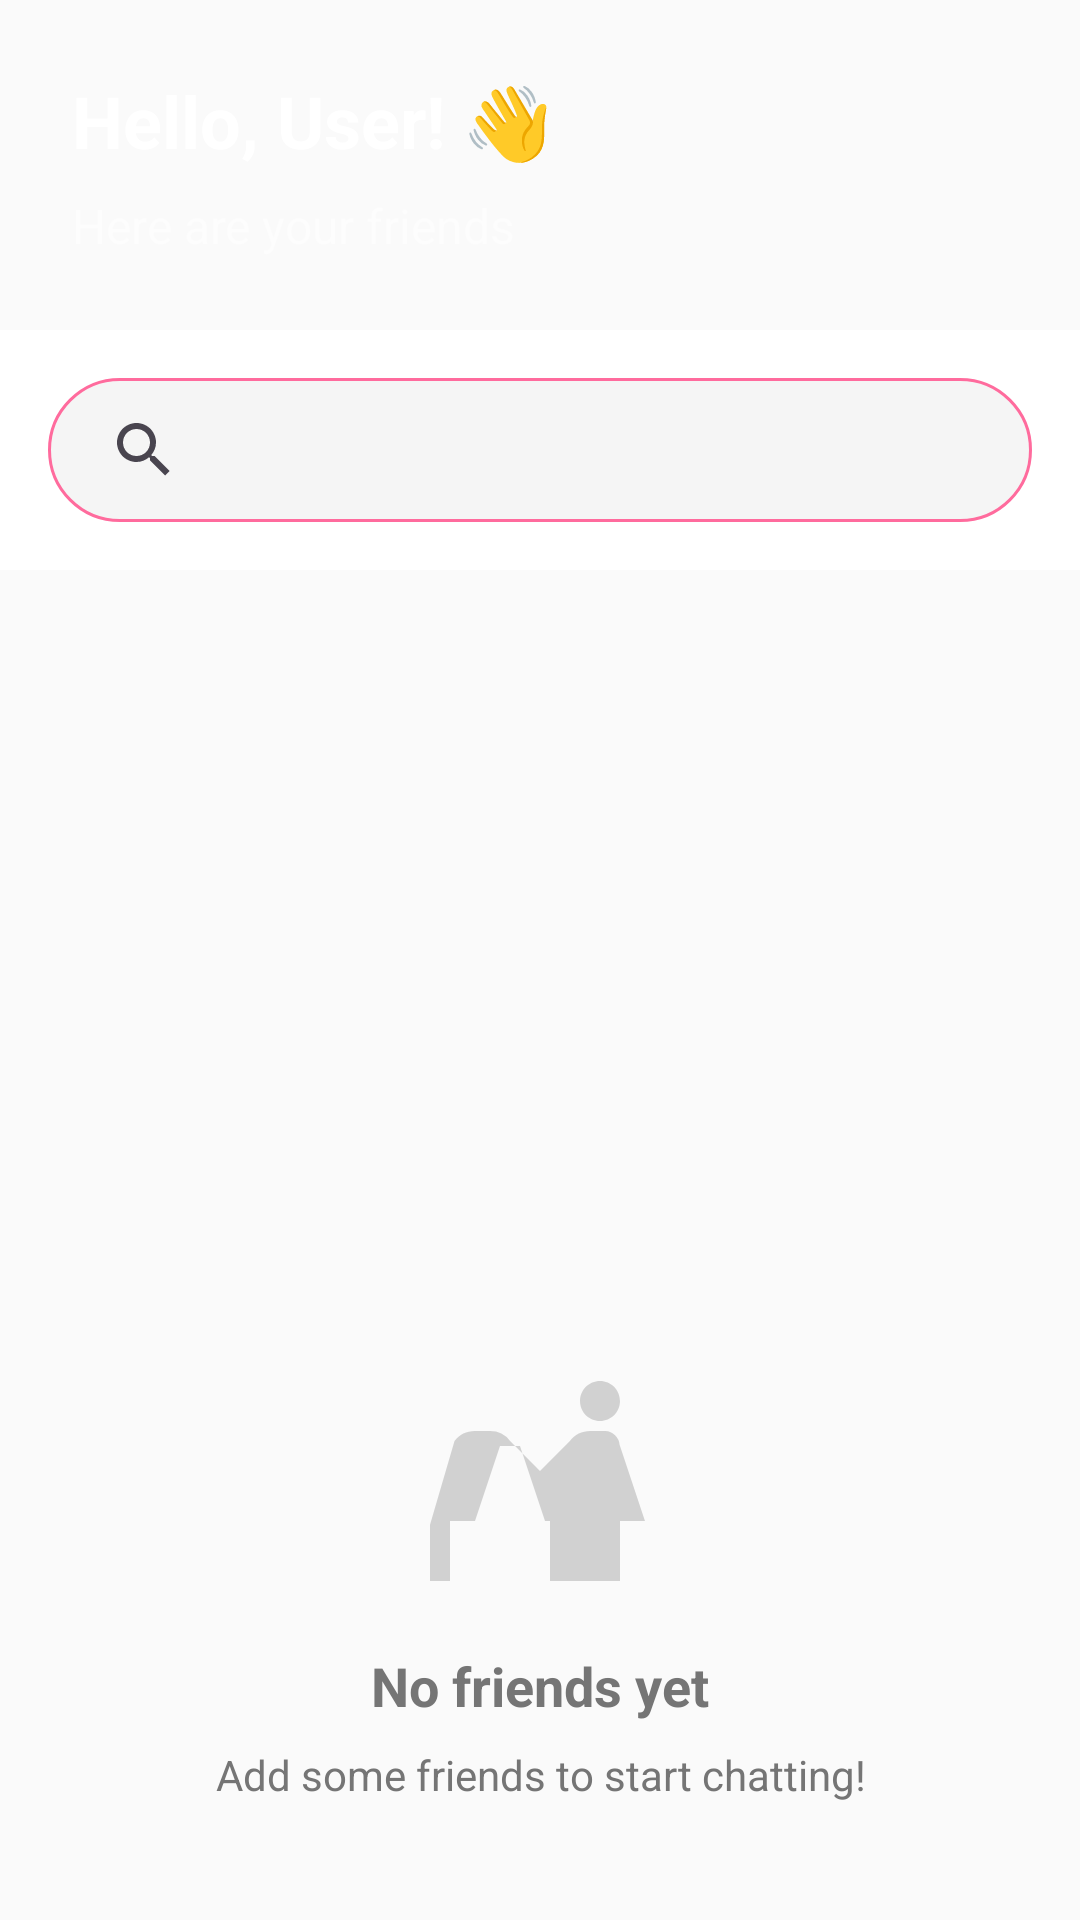

Named icons in this screenshot (1080w x 1920h) and their bounding boxes, box=[x1, y1, x2, y2]:
people: box=[430, 1381, 645, 1581]
